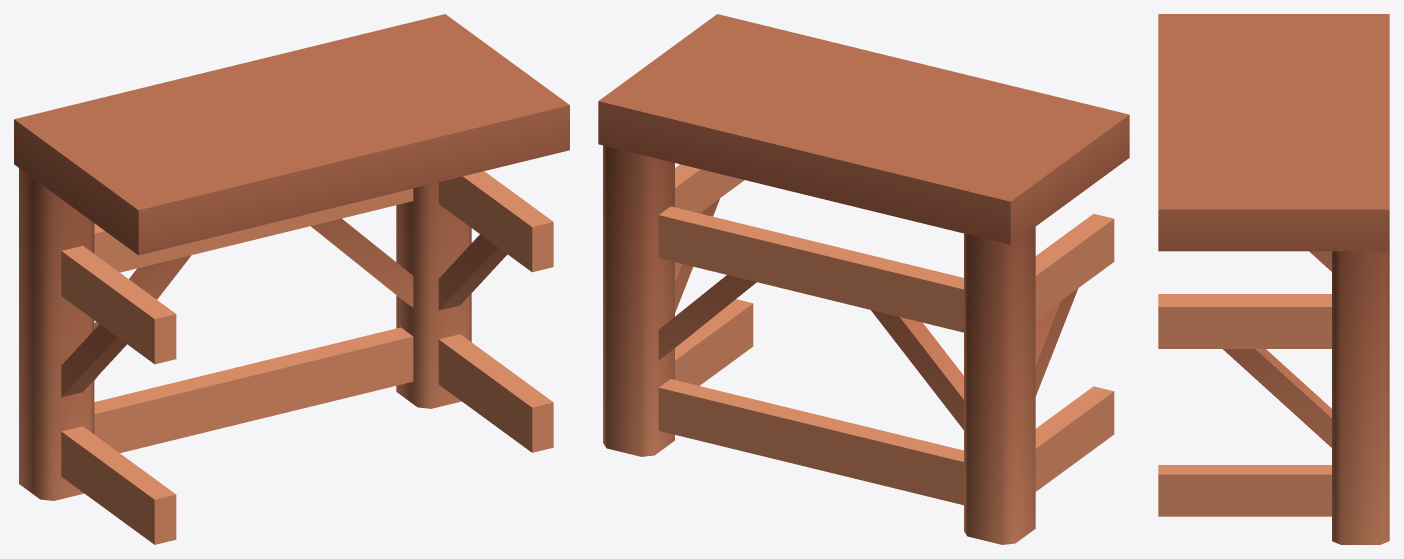
The model's file is structure-platform.glb.
The picture shows the model from 3 angles, left to right: view 1: azimuth 30°, elevation 25°; view 2: azimuth 150°, elevation 25°; view 3: azimuth 270°, elevation 25°; orthographic projection. The views are drawn at different scales.
Parts seen in each view (by area): view 1: structure-platform; view 2: structure-platform; view 3: structure-platform.
Part boxes in pixels (x1,y1,x2,y2): structure-platform: (14, 14, 569, 544); structure-platform: (598, 14, 1129, 544); structure-platform: (1158, 14, 1389, 544).
Size of the model in its own units: 1 by 0.8 by 0.5001.
Materials: 1 (1 with a texture image).
